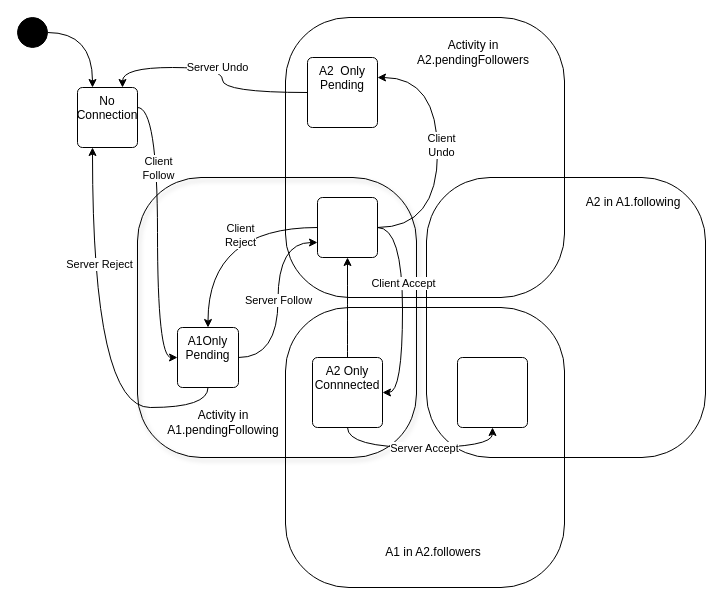
This 723x605 diagram has some shape labels left out. The centre of each missing label's shape, as x and y in pixels:
"Both Connected" belongs at point (492, 392).
"Both Pending" belongs at point (347, 227).
